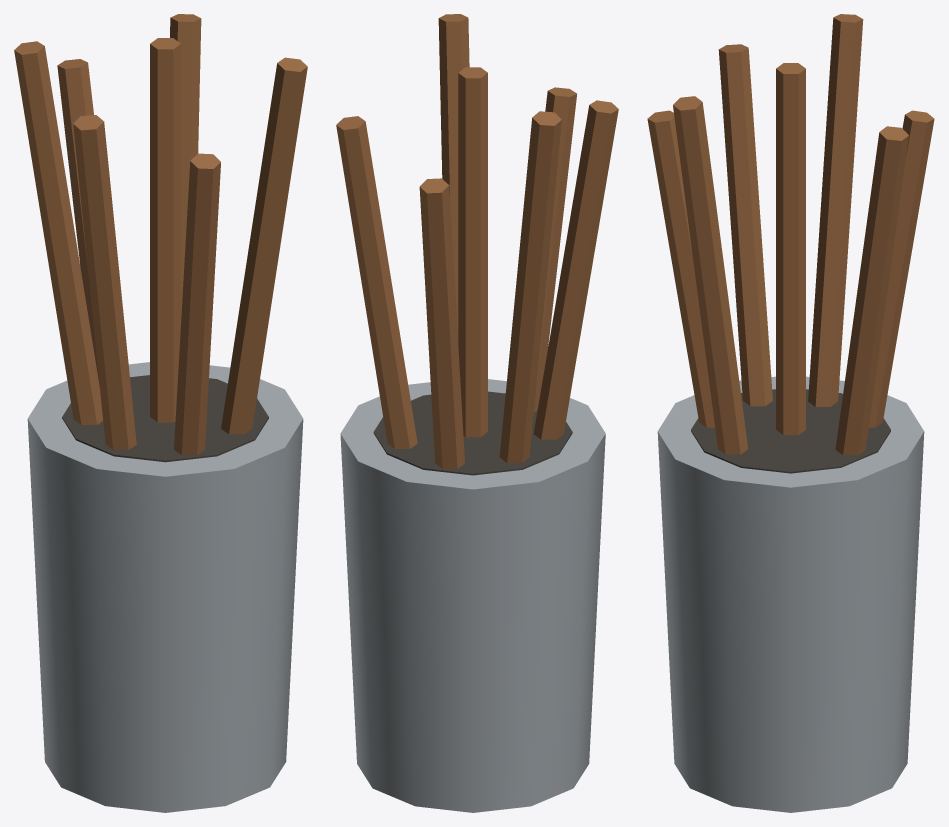
Rendered from chopstick_holder.glb.
3 views of the same model, side by side, from view 1: azimuth 30°, elevation 25°; view 2: azimuth 150°, elevation 25°; view 3: azimuth 270°, elevation 25° (orthographic). The views are drawn at different scales.
Visible parts, largest first — view 1: chopstick_holder; view 2: chopstick_holder; view 3: chopstick_holder.
Part boxes in pixels (x1,y1,x2,y2): chopstick_holder: (14,14,307,812); chopstick_holder: (336,14,618,812); chopstick_holder: (647,14,934,812).
Size of the model in its own units: 0.08 by 0.2307 by 0.0861.
